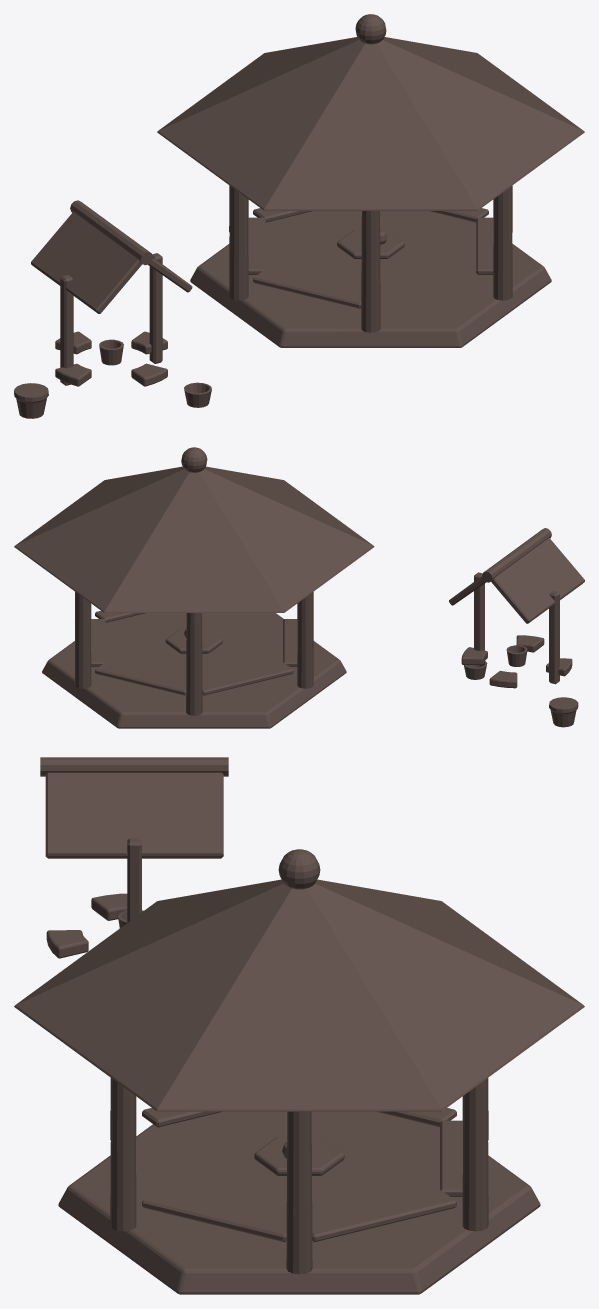
File: wellRest.ol.glb
3 views of the same model, one above another, from view 1: azimuth 30°, elevation 25°; view 2: azimuth 150°, elevation 25°; view 3: azimuth 270°, elevation 25° (orthographic). The views are drawn at different scales.
Visible parts, largest first — view 1: outline; view 2: outline; view 3: outline.
Part boxes in pixels (x1,y1,x2,y2): outline: (14,14,584,418); outline: (14,447,584,728); outline: (14,757,584,1294).
Size of the model in its own units: 15.82 by 7.16 by 10.39.
